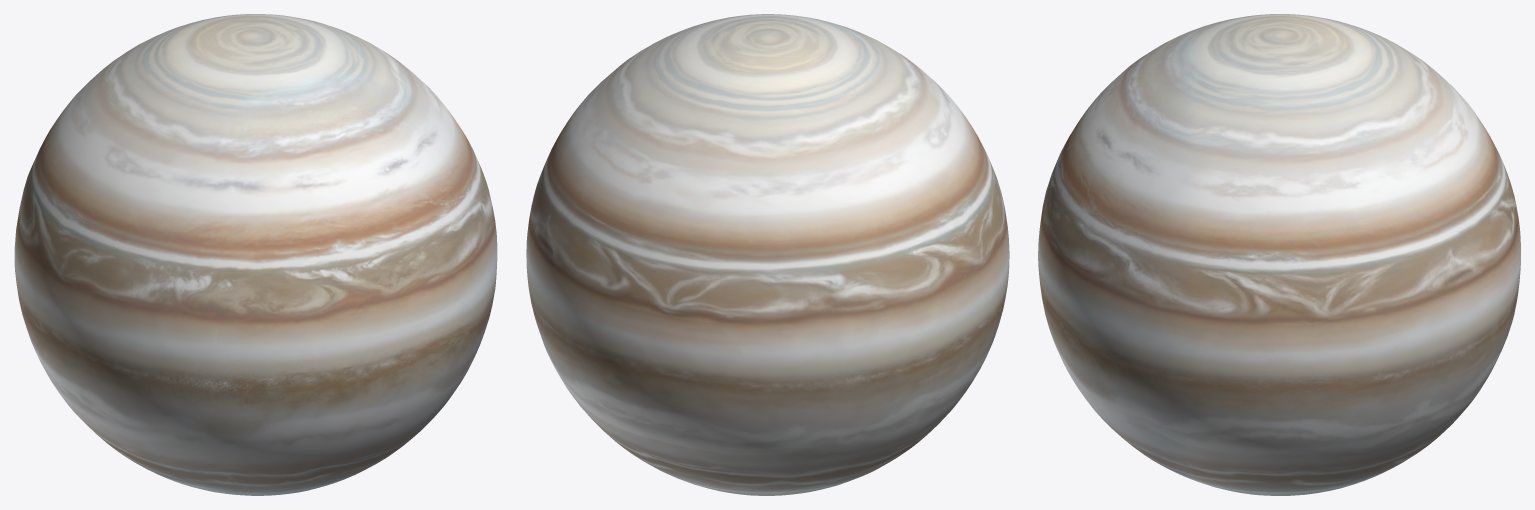
The model's file is water_god.glb.
3 views of the same model, side by side, from view 1: azimuth 30°, elevation 25°; view 2: azimuth 150°, elevation 25°; view 3: azimuth 270°, elevation 25° (orthographic).
Size of the model in its own units: 2 by 2 by 2.
1 material, 1 textured.
